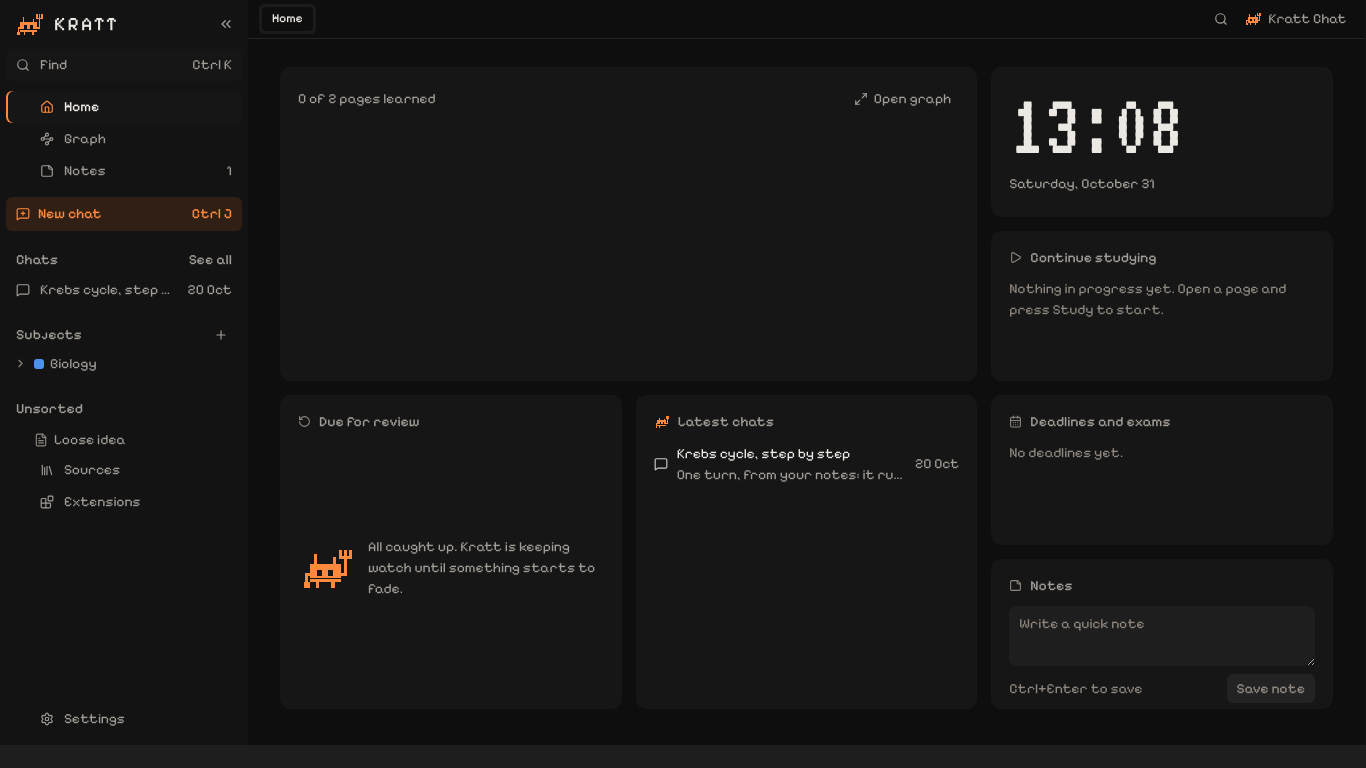
tab bar and sidebar shortcuts › Ctrl+Delete on the selected sidebar subject asks to delete it
Click the list item "Biology" at (54, 364), box [12,354,97,372]
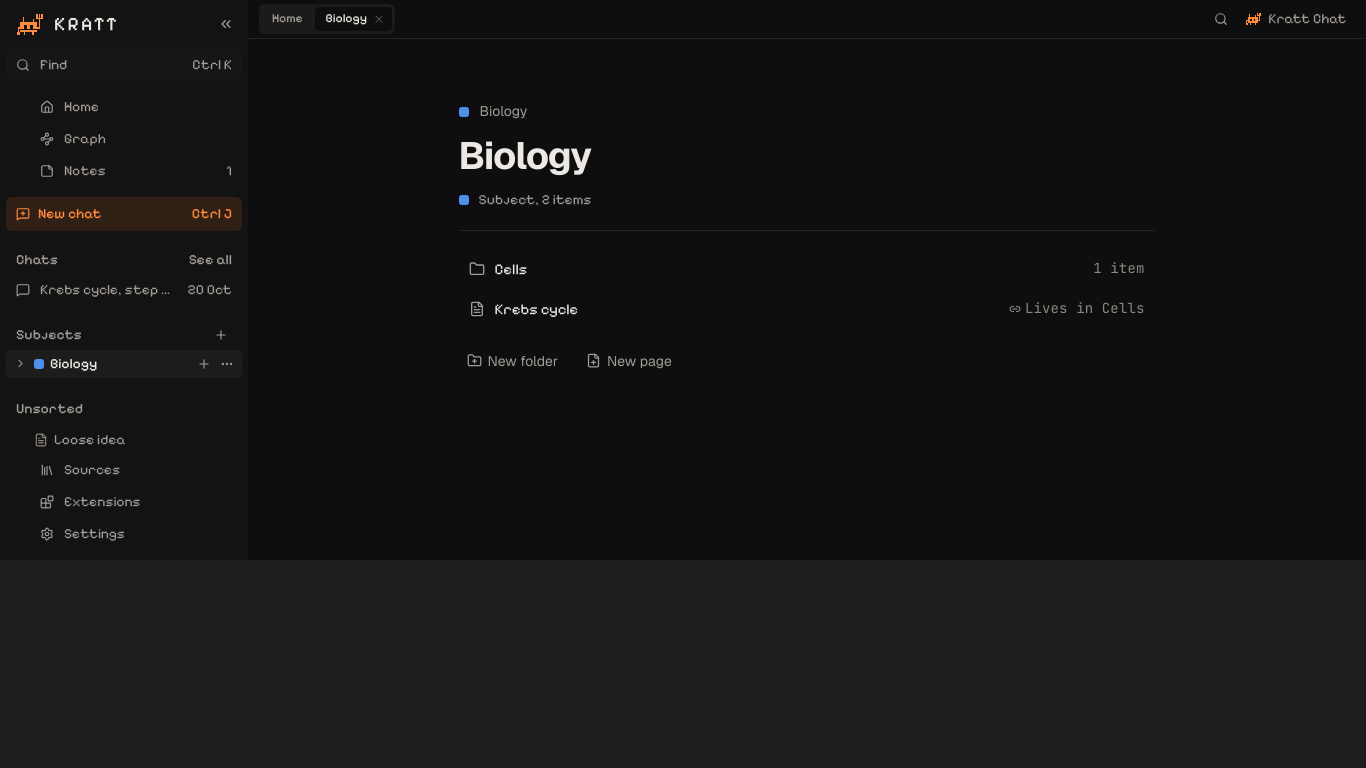
Press Delete in the list item "Biology", box [6,350,242,378]
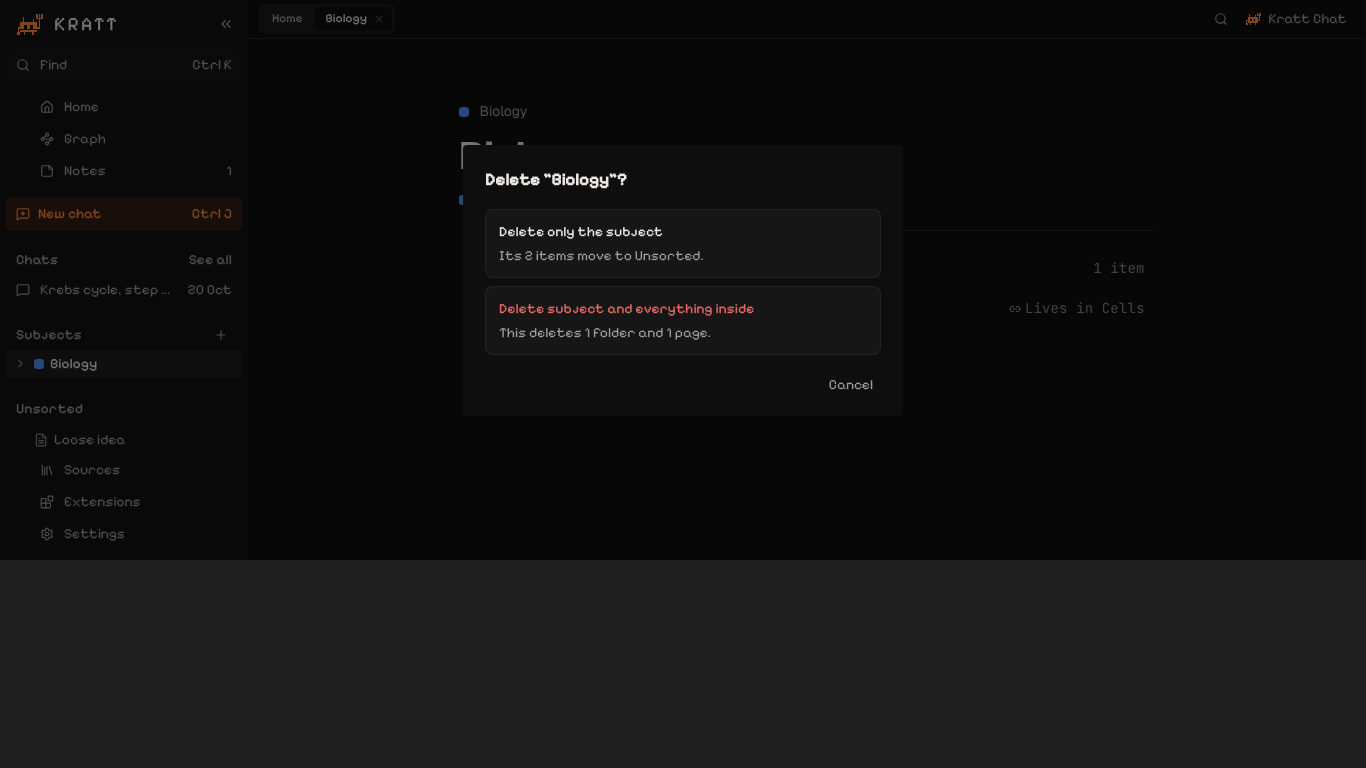
Expected: the dialog "Delete \"Biology\"?" is shown, [463,144,903,415]
